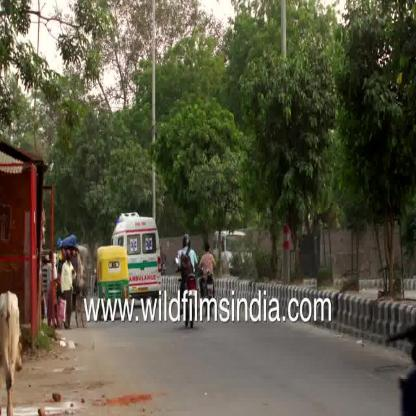priority: (111, 212, 163, 295)
